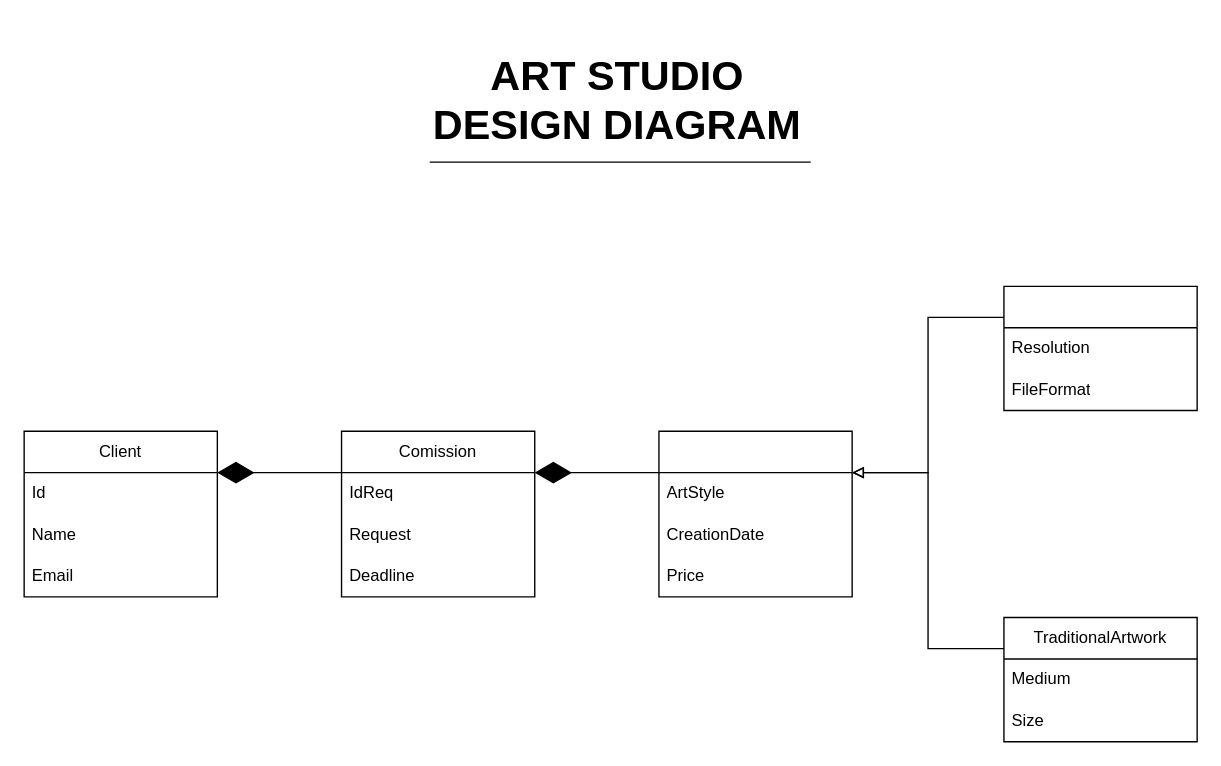
This 1221x766 diagram has some shape labels left out. Here are the shapes that lost their labels. From the top down, the box of each, then its label:
(1003, 285, 1197, 411): DigitalArtwork
(658, 430, 852, 597): Artwork
